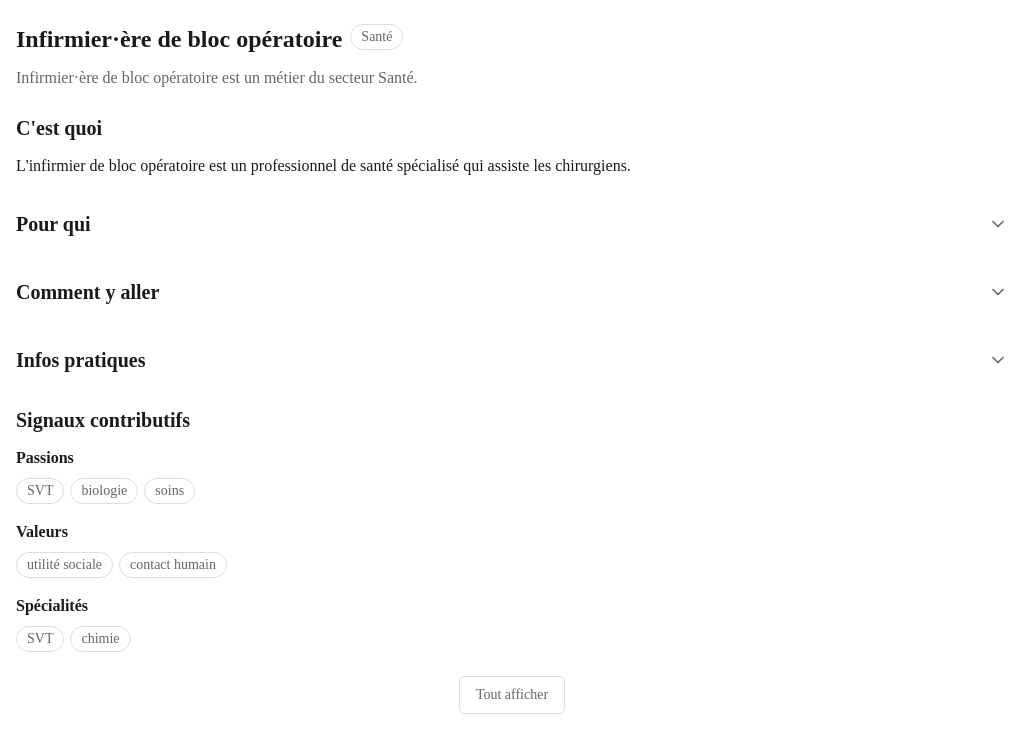
Test: AC8 — accordéon : tap sur section 3 → expand, aria-expanded=true › 'Tout afficher' déploie les 3 accordéons
Click the button "Tout afficher": (512, 695) [459,676,565,714]
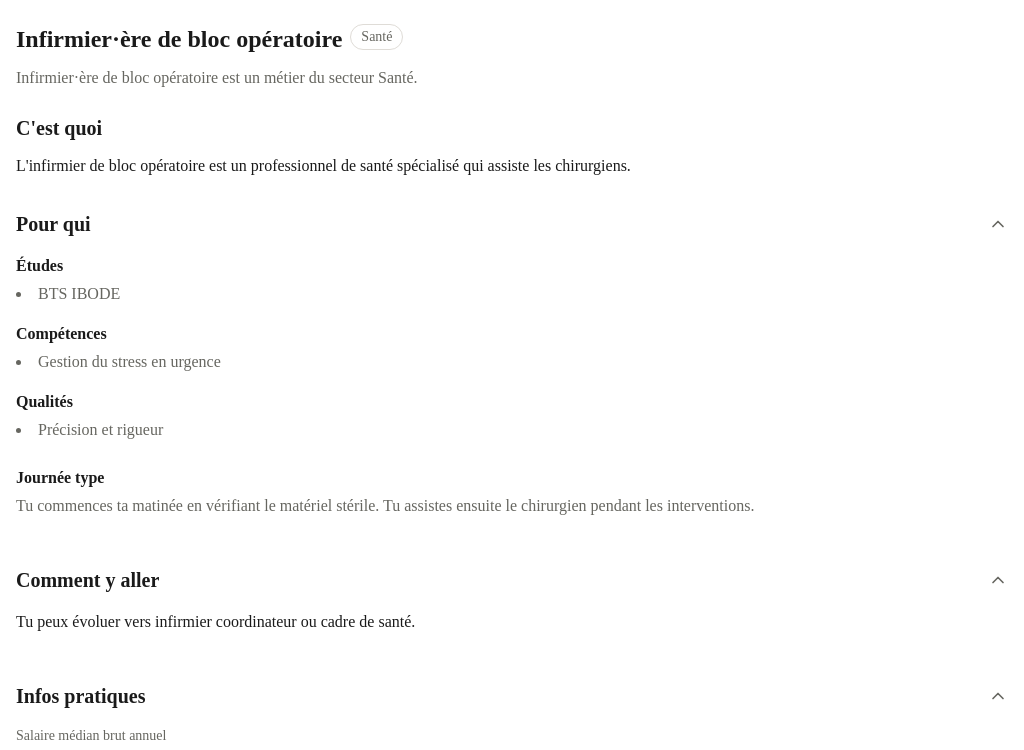
Result: the button "Pour qui" is expanded at [16,202,1008,246]
Result: the button "Comment y aller" is expanded at [16,558,1008,602]
Result: the button "Infos pratiques" is expanded at [16,674,1008,718]
